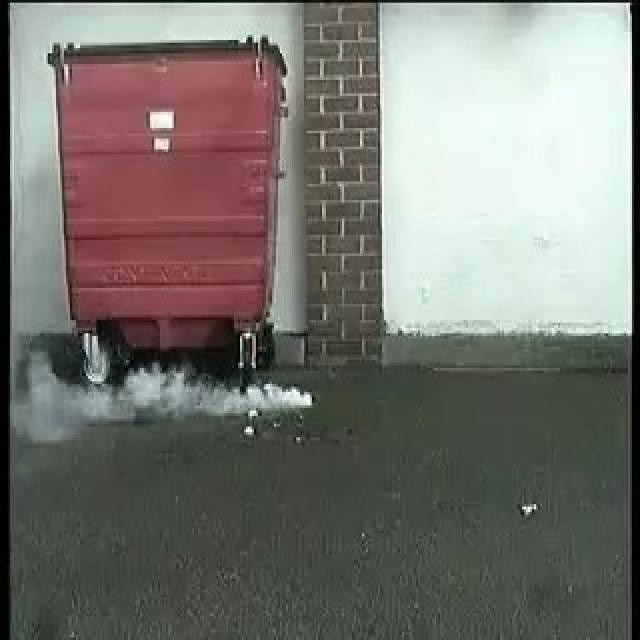smoke: (78, 366, 317, 428)
